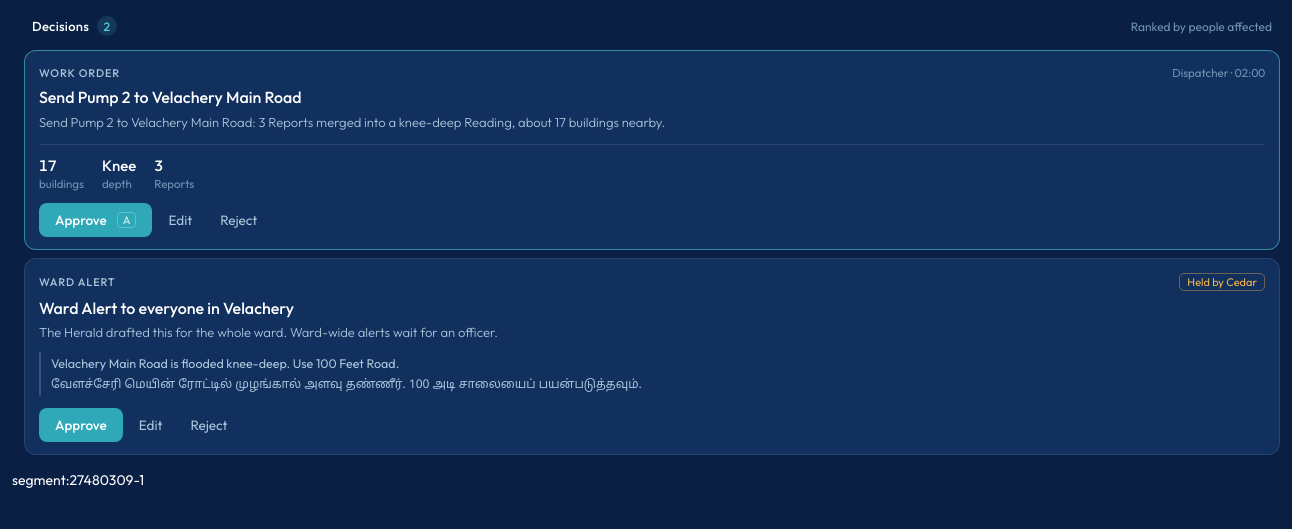
Test case: other errors restore the buttons with a message
The image size is (1292, 529).
Expected: the element "Send Pump 2 to Velachery Main Road" is shown, [24,50,1280,250]
Click the button "Approve A".
click(96, 220)  # box [39,203,152,237]
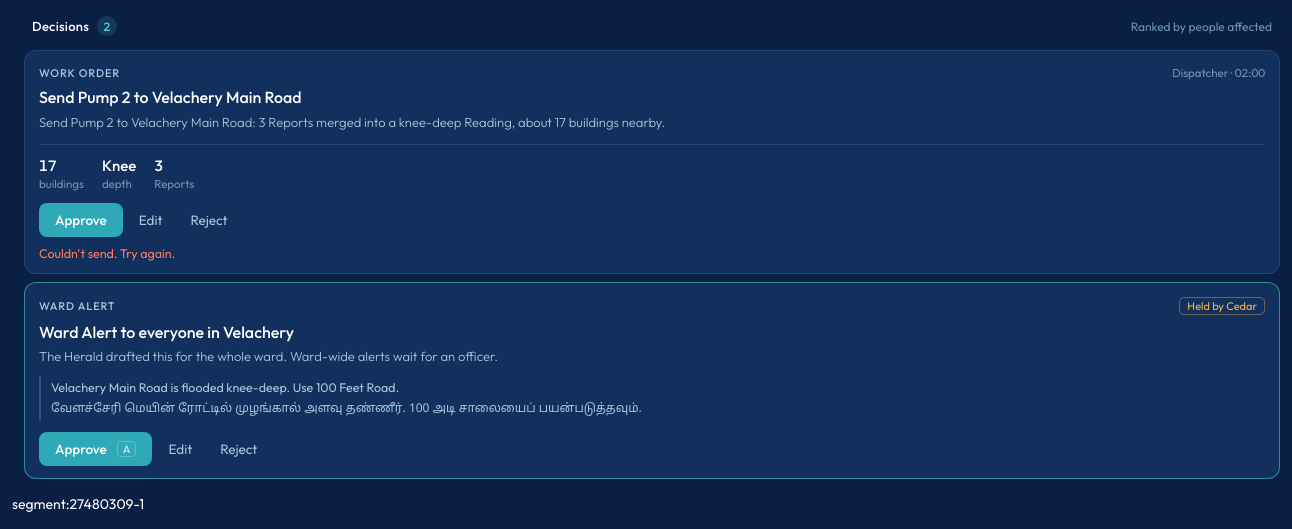
Expected: the button "Approve" is shown, [39,203,123,237]
Now the text "Couldn't send. Try again." is shown, box [39,245,175,261]
